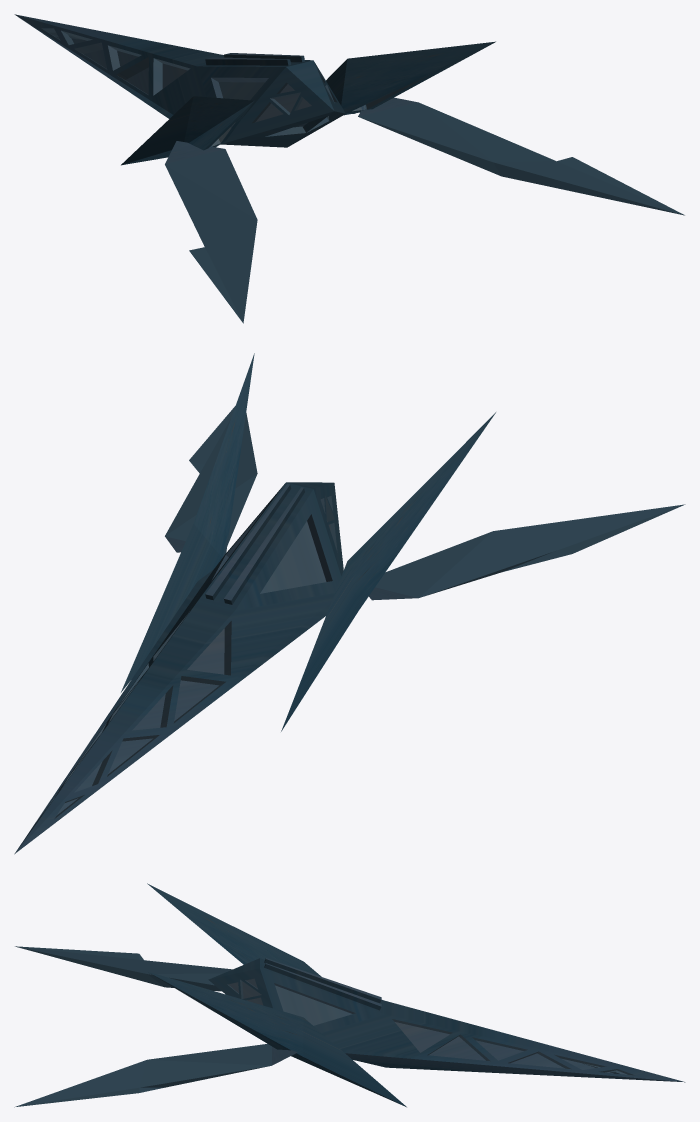
Rendered from NauStarWingTexturesIncluded.fbx.
3 renders of one model, top to bottom at view 1: azimuth 30°, elevation 25°; view 2: azimuth 150°, elevation 25°; view 3: azimuth 270°, elevation 25°, orthographic. The views are drawn at different scales.
Visible parts, largest first — view 1: nau; view 2: nau; view 3: nau.
Boxes of the visible parts, x1,y1,x2,y2 form: nau: (14,14,684,323); nau: (14,353,685,854); nau: (14,883,685,1107).
Size of the model in its own units: 109 by 49.09 by 193.
Materials: 1 (1 with a texture image).
